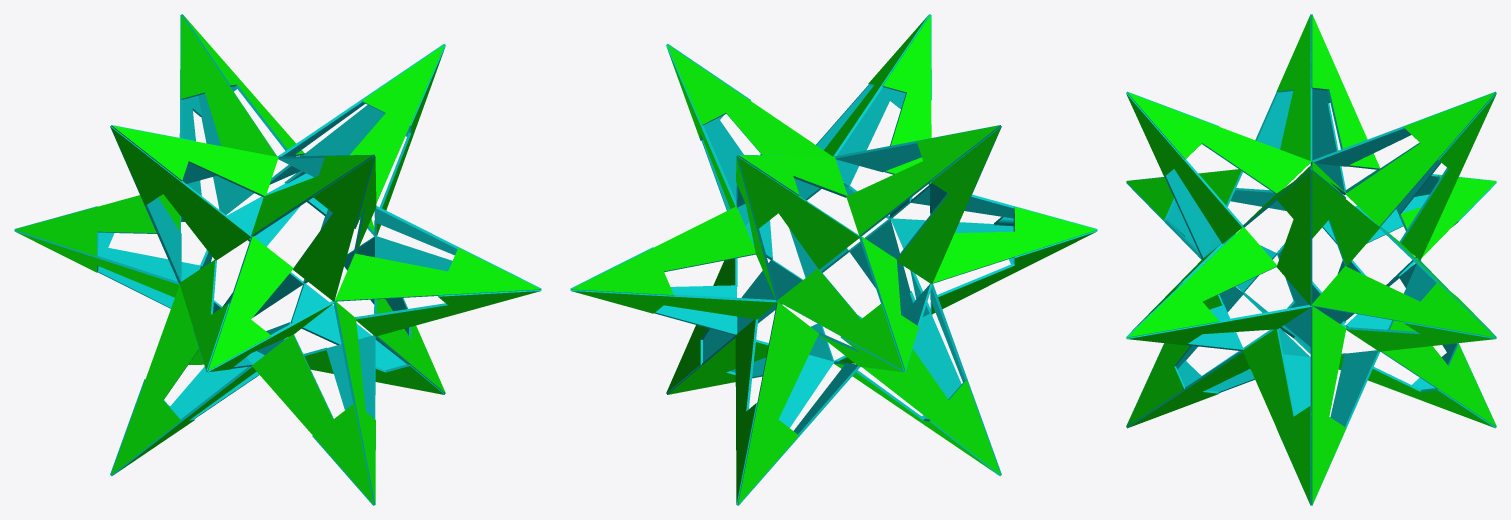
The model's file is GreatRhombihexacronS.glb.
3 views of the same model, side by side, from view 1: azimuth 30°, elevation 25°; view 2: azimuth 150°, elevation 25°; view 3: azimuth 270°, elevation 25° (orthographic). The views are drawn at different scales.
Parts seen in each view (by area): view 1: Mesh_0015_1, Mesh_0015; view 2: Mesh_0015_1, Mesh_0015; view 3: Mesh_0015_1, Mesh_0015.
Part boxes in pixels (x1,y1,x2,y2): Mesh_0015_1: (15, 15, 540, 504); Mesh_0015: (14, 14, 541, 505); Mesh_0015_1: (571, 15, 1096, 504); Mesh_0015: (570, 14, 1097, 505); Mesh_0015_1: (1126, 14, 1496, 504); Mesh_0015: (1126, 14, 1496, 505).
Bounding box in the file's own units: 7.42 × 7.42 × 7.42.
